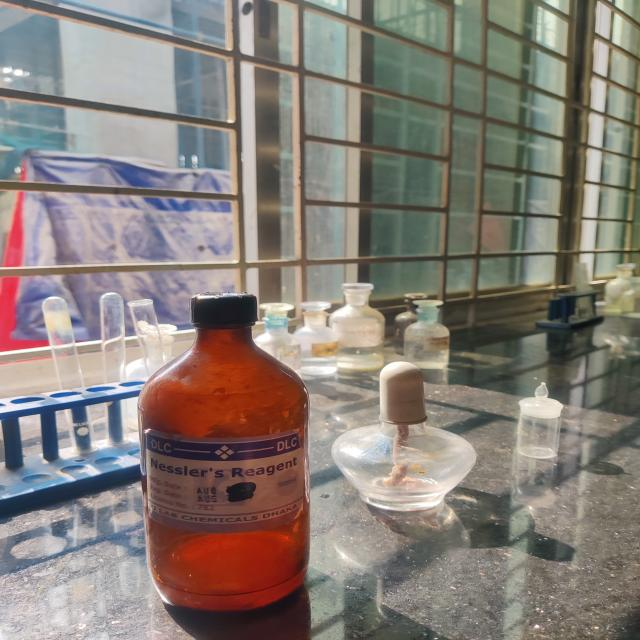Nessler_Reagent_Bottle: (105, 293, 318, 624)
Spirit_Lamp: (321, 359, 488, 527)
Weighing_Bottle: (502, 365, 578, 484)
